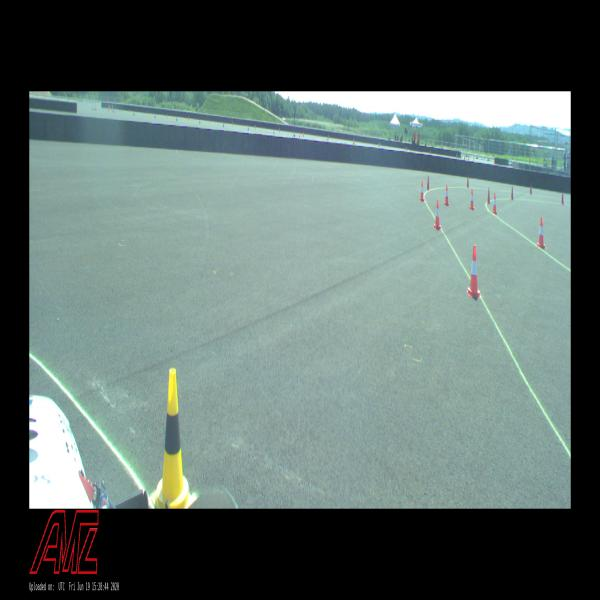orange_cone: (468, 246, 480, 297), (537, 218, 545, 249), (434, 199, 440, 229), (492, 193, 497, 215), (444, 184, 449, 206), (420, 180, 424, 202), (470, 189, 474, 210)
yellow_cone: (151, 369, 194, 508)
